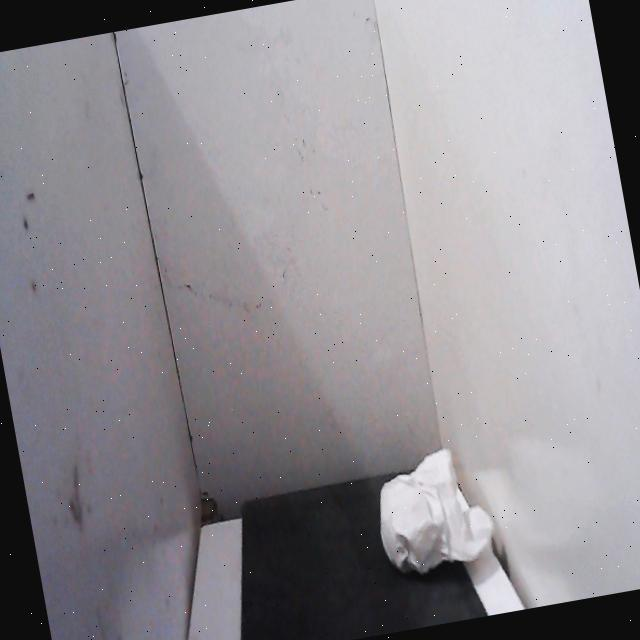papel: (364, 431, 506, 592)
